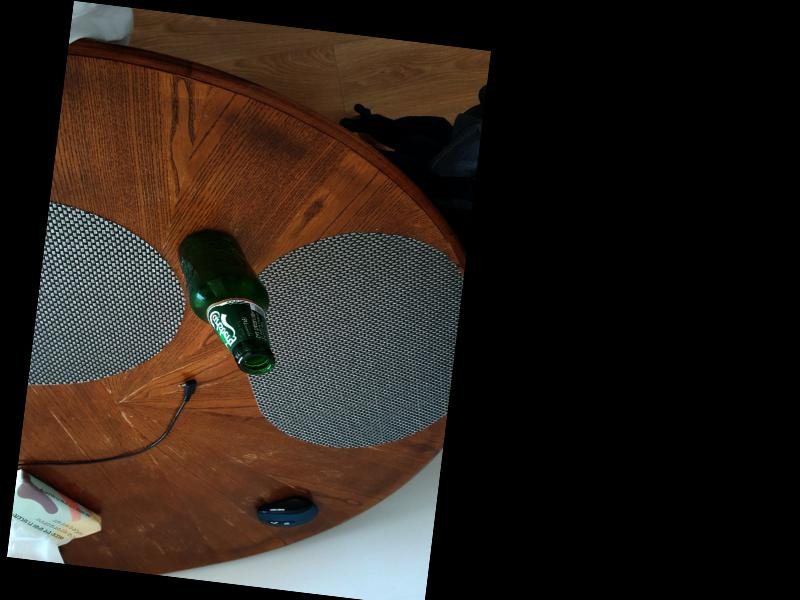Beer: (159, 223, 291, 376)
